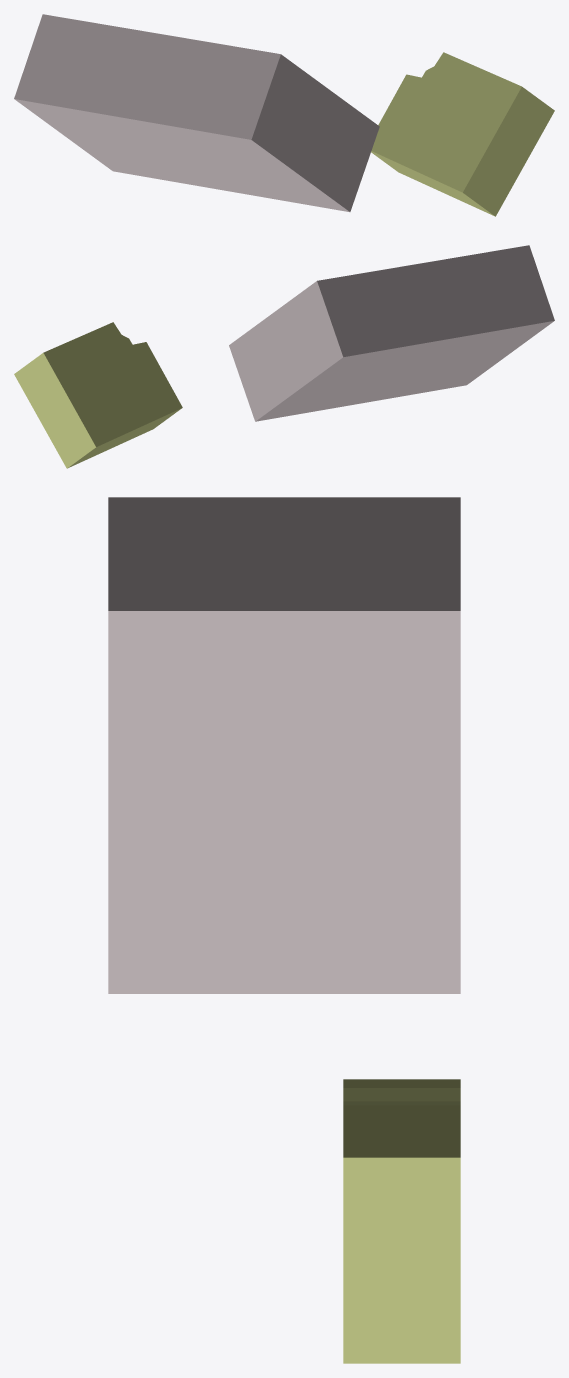
3 views of the same model, one above another, from view 1: azimuth 30°, elevation 25°; view 2: azimuth 150°, elevation 25°; view 3: azimuth 270°, elevation 25° (orthographic). The views are drawn at different scales.
Visible parts, largest first — view 1: 0_3_0_2_2_1_1_3_3; view 2: 0_3_0_2_2_1_1_3_3; view 3: 0_3_0_2_2_1_1_3_3.
Part boxes in pixels (x1,y1,x2,y2): 0_3_0_2_2_1_1_3_3: (14,14,554,216); 0_3_0_2_2_1_1_3_3: (14,245,554,468); 0_3_0_2_2_1_1_3_3: (108,497,460,1363).
Size of the model in its own units: 53.4 by 28.22 by 18.
